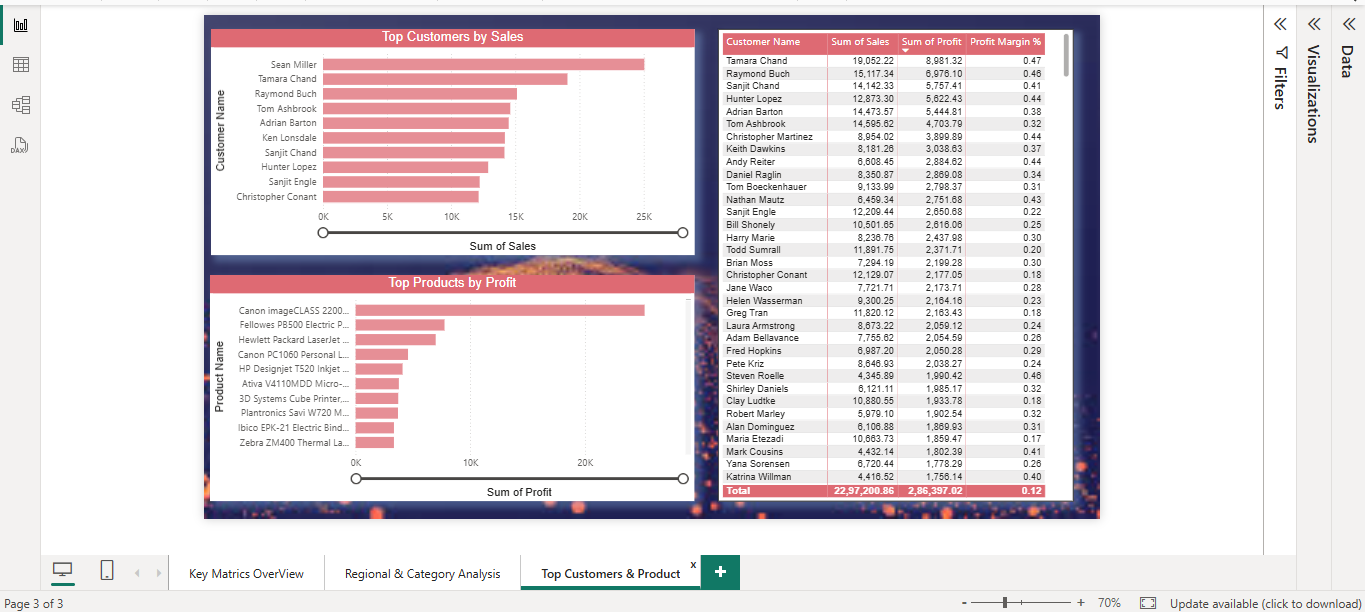

What the dashboard file says about the page in this screenshot:
{"tool":"powerbi","page":{"name":"Top Customers & Product","canvas":[1280,720],"ordinal":2},"visuals":[{"type":"clusteredBarChart","title":"Top Customers by Sales","fields":{"Y":["Sum(Sample - Superstore.Sales)"],"Category":["Sample - Superstore.Customer Name"]},"box":[9.6,20.6,690.9,323.4],"z":0},{"type":"clusteredBarChart","title":"Top Products by Profit","fields":{"Category":["Sample - Superstore.Product Name"],"Y":["Sum(Sample - Superstore.Profit)"]},"box":[8.3,371.6,692.3,323.4],"z":1000},{"type":"tableEx","fields":{"Values":["Sample - Superstore.Customer Name","Sum(Sample - Superstore.Sales)","Sum(Sample - Superstore.Profit)","Sample - Superstore.Profit Margin %"]},"box":[734.4,20.2,508.3,675.4],"z":2000}]}

Visuals, with their boxes on the page's 1280x720 design canvas (x1, y1, x2, y2). These are canvas units, not pixel positions in the 1365x612 screenshot, which may show the page scaled, cropped or inside an application window:
"Top Customers by Sales" clusteredBarChart: 10:21:700:344
"Top Products by Profit" clusteredBarChart: 8:372:701:695
tableEx - Sample - Superstore.Customer Name x Sum(Sample - Superstore.Sales): 734:20:1243:696
